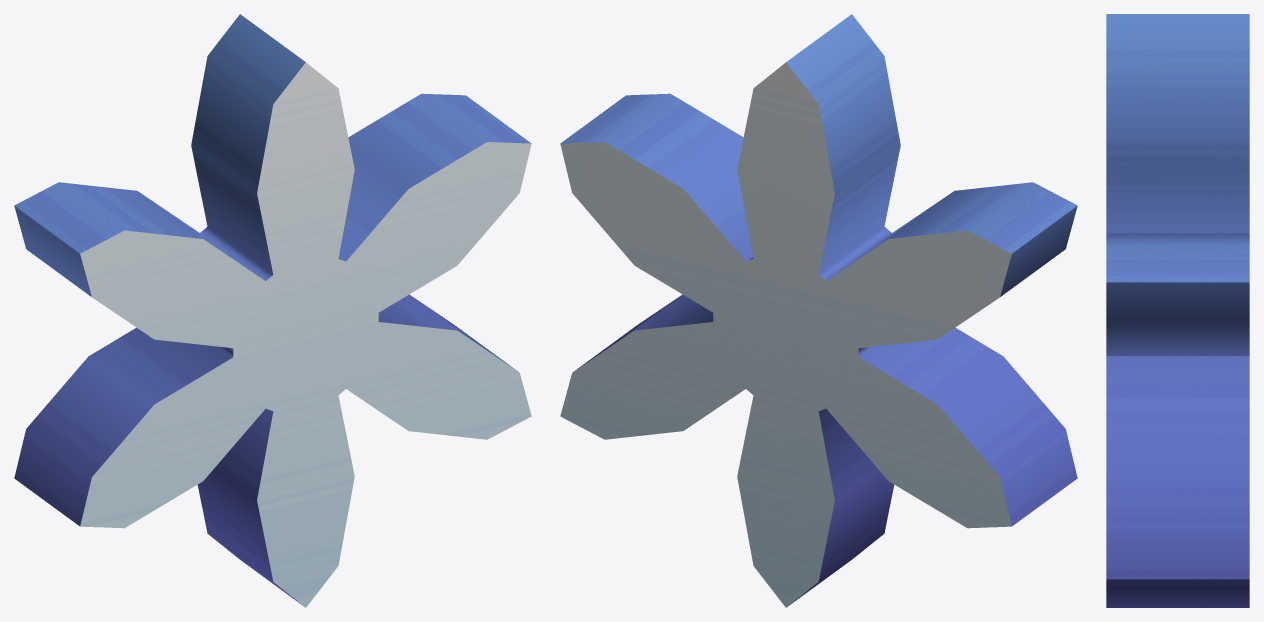
Rendered from snowflake-c.glb.
3 views of the same model, side by side, from view 1: azimuth 30°, elevation 25°; view 2: azimuth 150°, elevation 25°; view 3: azimuth 270°, elevation 25° (orthographic). The views are drawn at different scales.
Parts seen in each view (by area): view 1: snowflake-c; view 2: snowflake-c; view 3: snowflake-c.
Boxes of the visible parts, x1,y1,x2,y2 form: snowflake-c: (14,14,531,607); snowflake-c: (560,14,1077,607); snowflake-c: (1106,14,1249,607).
Size of the model in its own units: 1.04 by 1.2 by 0.2625.
1 material, 1 textured.
